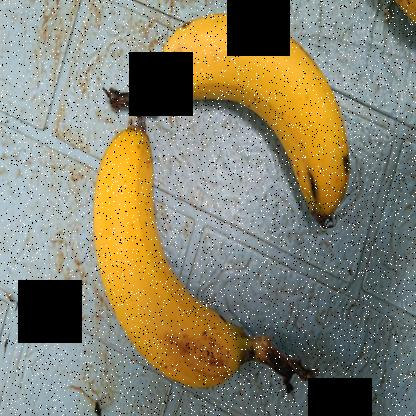freshripe: (148, 5, 358, 240), (87, 116, 243, 401)
